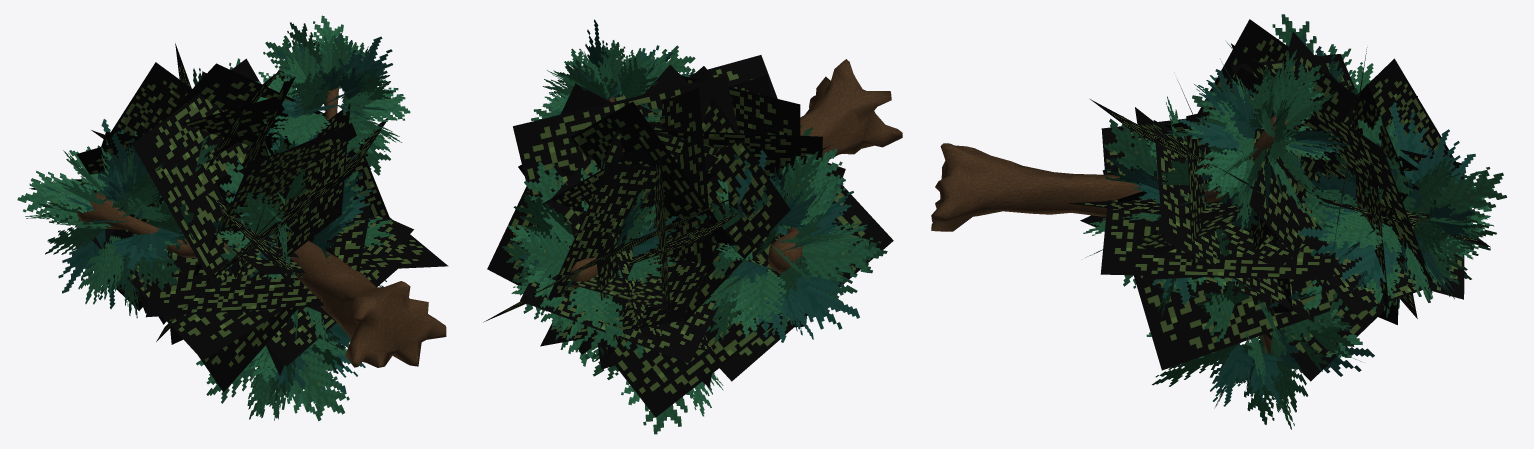
File: Tree4T.fbx
3 views of the same model, side by side, from view 1: azimuth 30°, elevation 25°; view 2: azimuth 150°, elevation 25°; view 3: azimuth 270°, elevation 25° (orthographic). The views are drawn at different scales.
Visible parts, largest first — view 1: Tree4; view 2: Tree4; view 3: Tree4.
Boxes of the visible parts, x1,y1,x2,y2 form: Tree4: (17,15,448,421); Tree4: (483,19,902,434); Tree4: (931,14,1506,429).
Bounding box in the file's own units: 1103 × 1137 × 1513.
